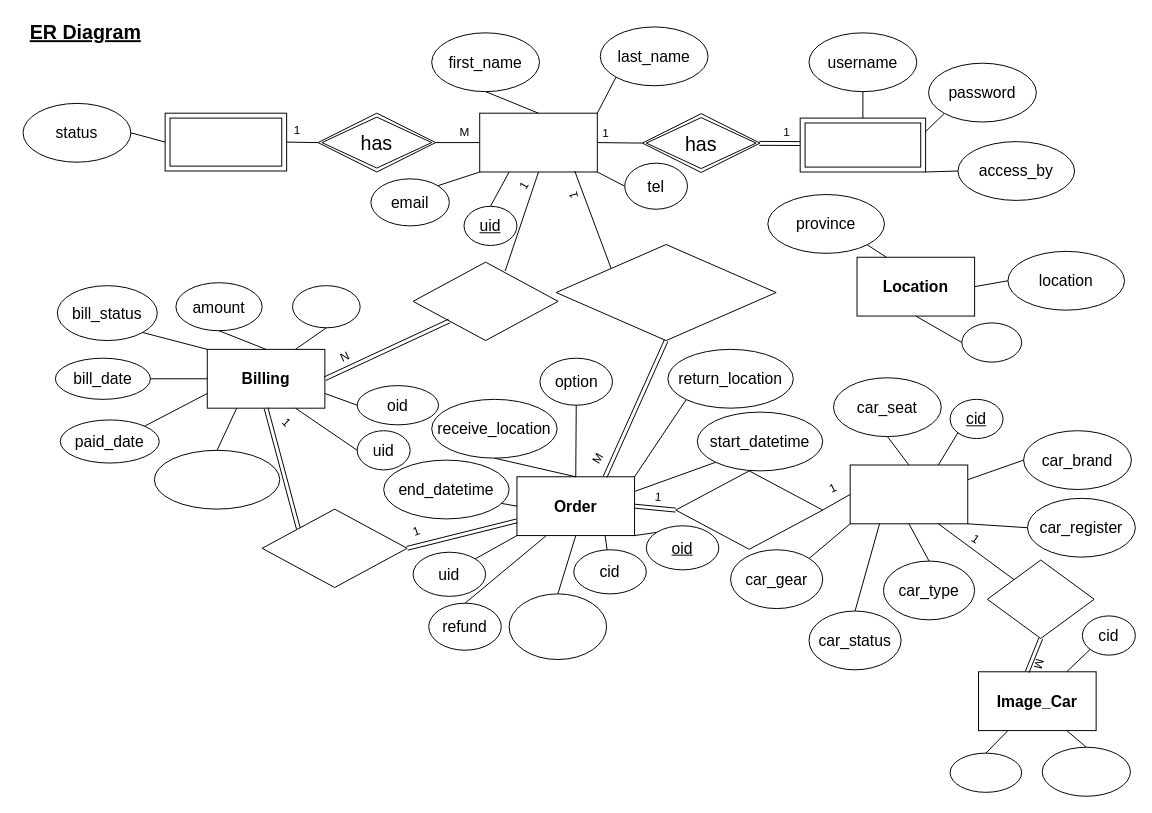
Image size: 1152x813. Some labels were removed from this diagram. The box of each missing label's shape, as (x1, y1, x2, y2) in pixels:
bill_id: (292, 285, 360, 328)
Car: (849, 464, 968, 524)
car image: (986, 559, 1094, 638)
choose car and location: (555, 244, 776, 341)
get booking id: (261, 508, 407, 588)
give car details: (675, 470, 823, 549)
img_id: (949, 752, 1022, 792)
img_url: (1041, 746, 1130, 796)
lid: (961, 322, 1022, 362)
Login: (799, 117, 926, 172)
order_status: (508, 593, 607, 660)
payment: (412, 261, 558, 341)
Role: (164, 112, 287, 171)
total_amount: (153, 449, 280, 509)
User: (479, 112, 597, 172)
